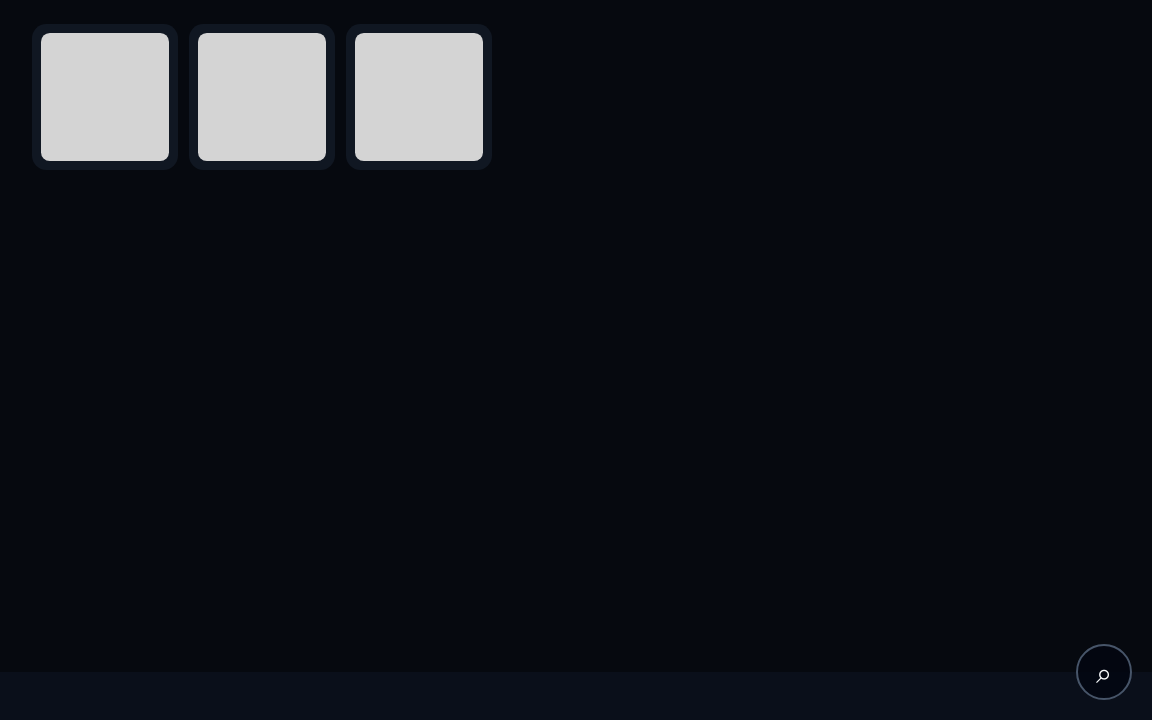
Test: /tv Personal Gallery › the viewer follows the CURRENT result sequence, toggles favorite, and restores focus on close
The image size is (1152, 720).
Click the button "a.jpg": {"x": 105, "y": 97} [32,24,178,170]
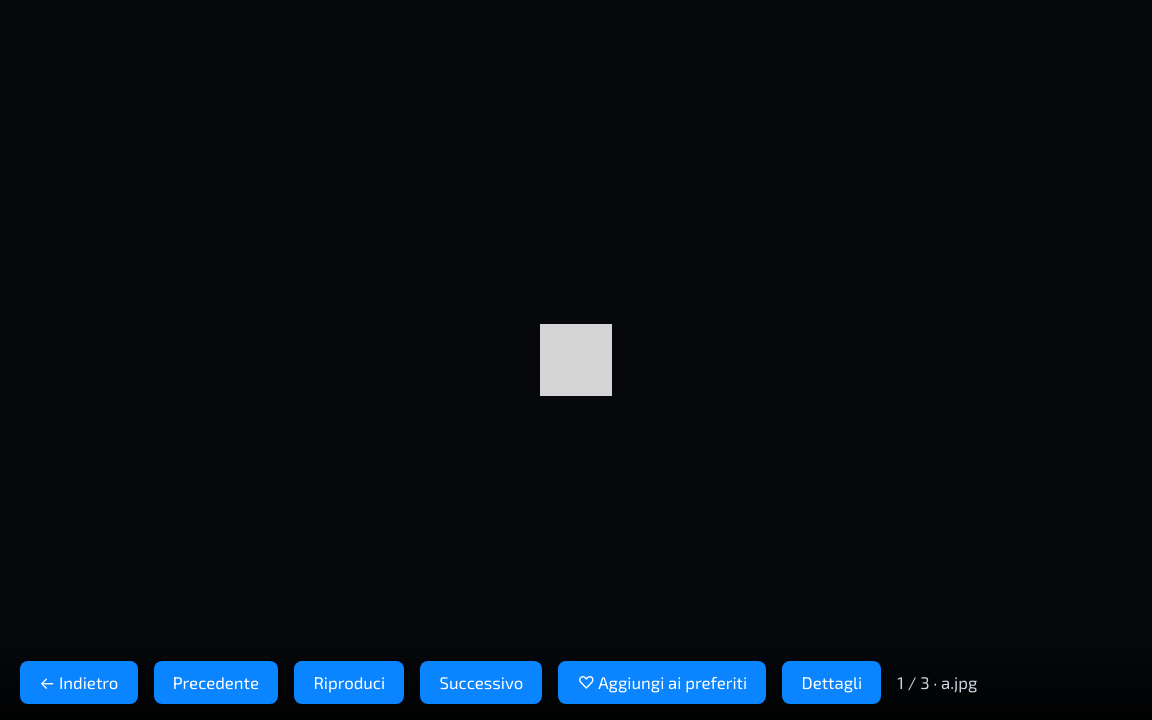
expect the text with test id "tv-personal-viewer-counter" shows "1 / 3": met, box [897,672,977,692]
# RIGHT → next item of the current result set.
Press ArrowRight in the dialog with test id "tv-personal-viewer"
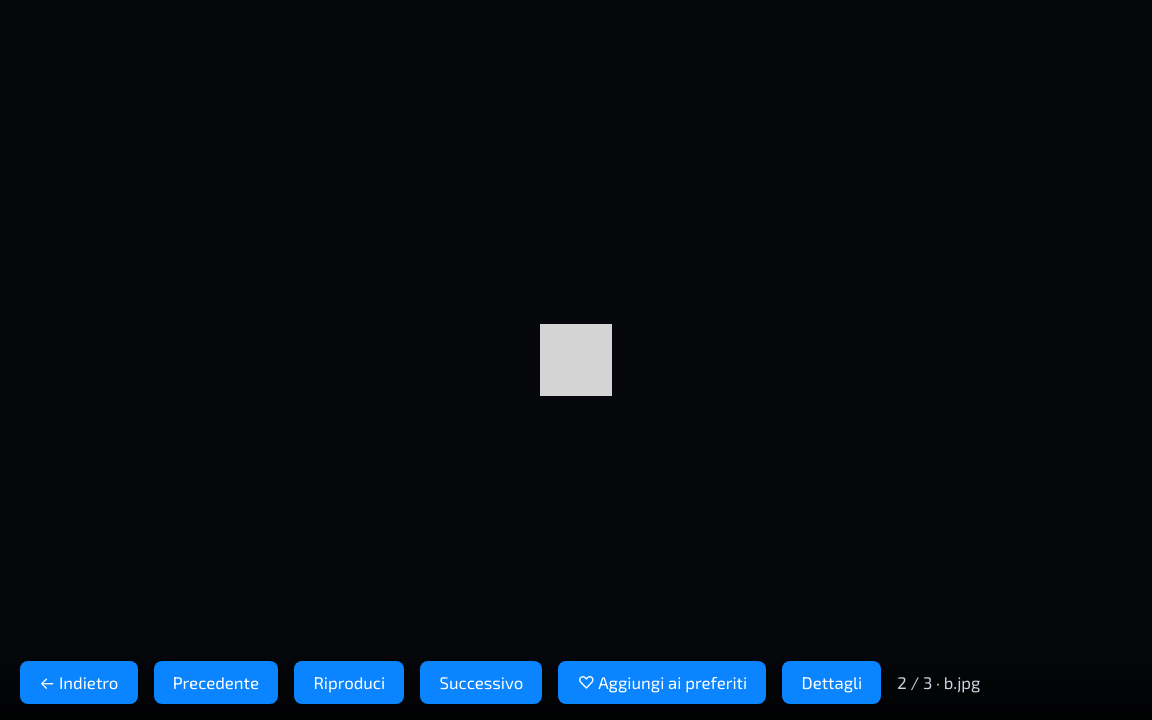
expect the text with test id "tv-personal-viewer-counter" shows "2 / 3": met, box [897,672,980,692]
# Favorite: server-confirmed, reflected in the button state.
Click the button with test id "tv-personal-viewer-favorite": {"x": 662, "y": 682} [558,661,766,704]
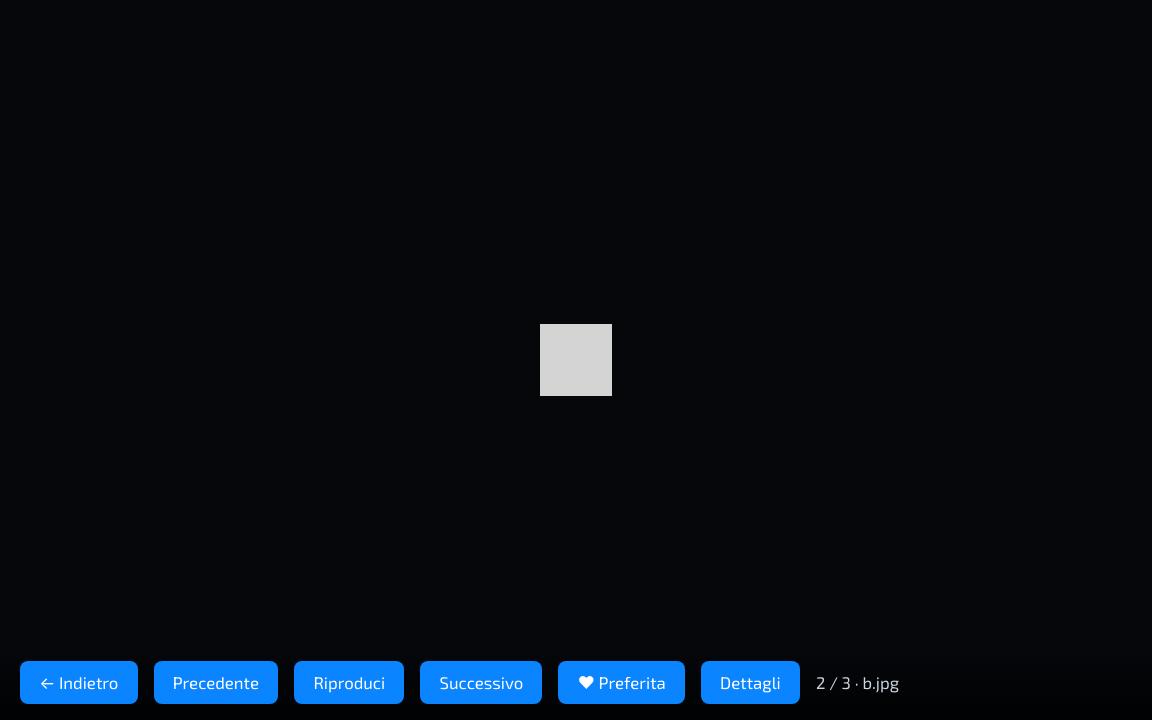
expect the button with test id "tv-personal-viewer-favorite" reads "♥ Preferita": met, box [558,661,685,704]
# Details panel shows the curated info.
Click the button with test id "tv-personal-viewer-details": {"x": 750, "y": 682} [701,661,800,704]
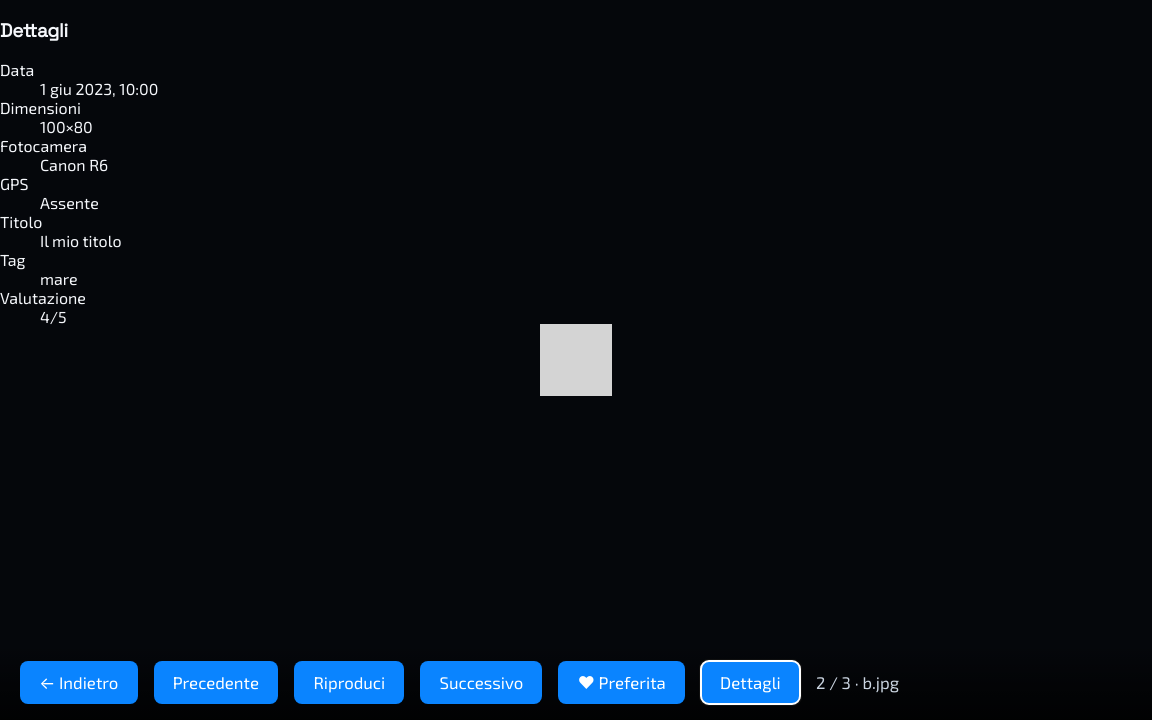
expect the text "Canon R6" is shown: met, box [40,155,108,174]
expect the text "Il mio titolo" is shown: met, box [40,231,122,250]
expect the text "Assente" is shown: met, box [40,193,99,212]
Press Escape in the dialog with test id "tv-personal-viewer"
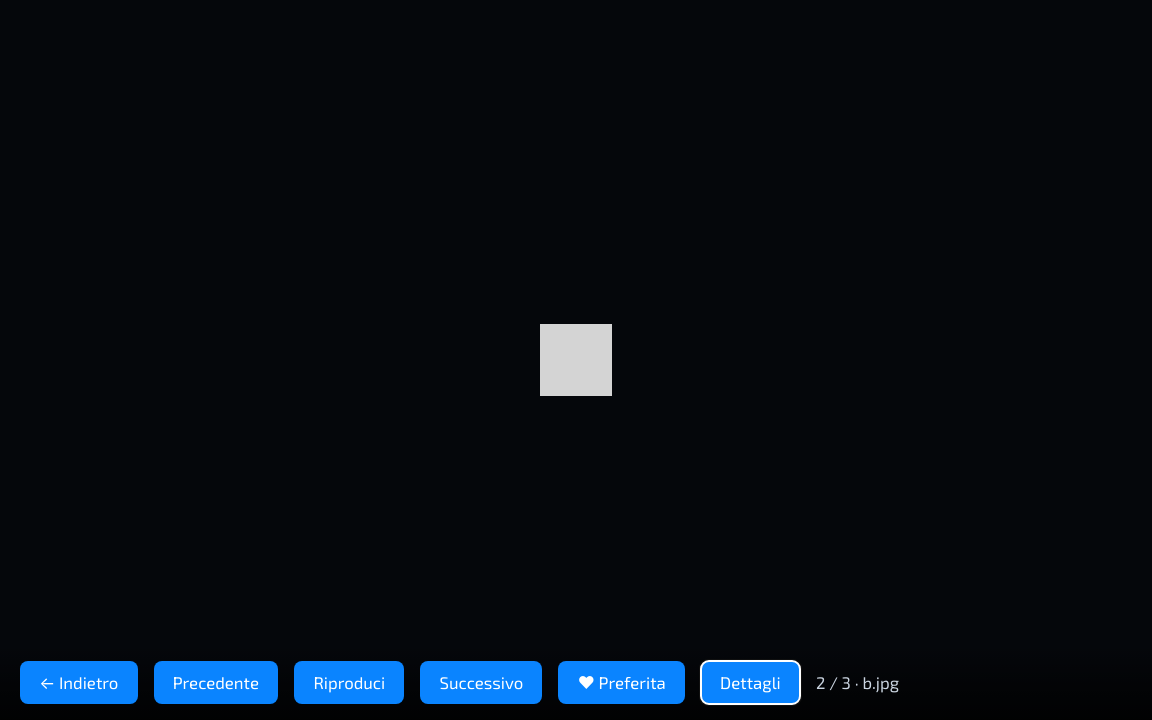
expect the element with test id "tv-personal-info" is gone: met
Press Escape in the dialog with test id "tv-personal-viewer"
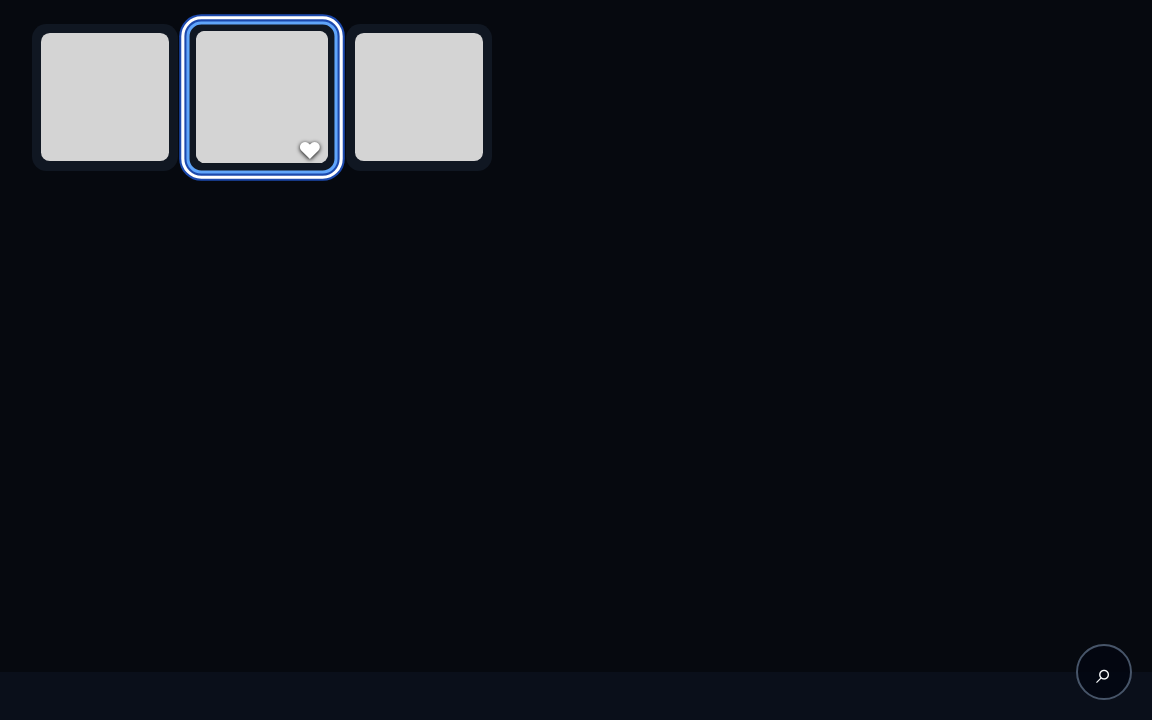
expect the element with test id "tv-personal-gallery" is shown: met
